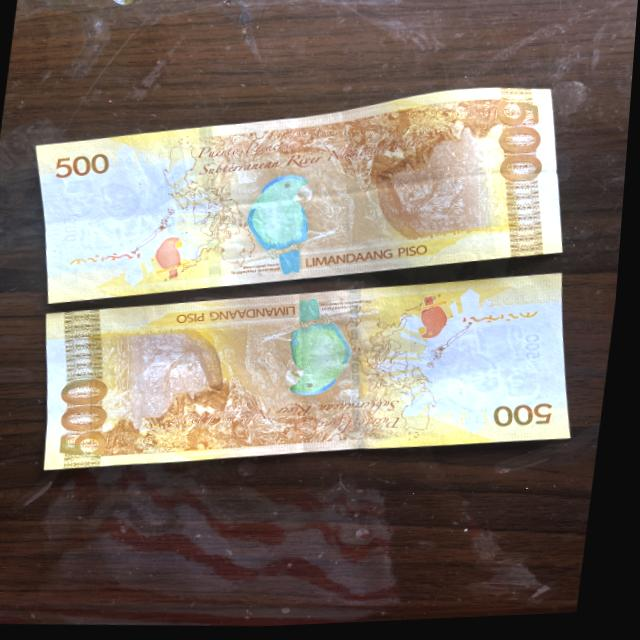500_big_parrot: (270, 296, 362, 403), (238, 173, 330, 276)
500_parrot_watermark: (413, 293, 461, 345), (152, 234, 201, 280)
value_watermark: (527, 336, 553, 372), (59, 216, 89, 243)
watermark: (60, 168, 179, 259), (439, 327, 547, 415)
